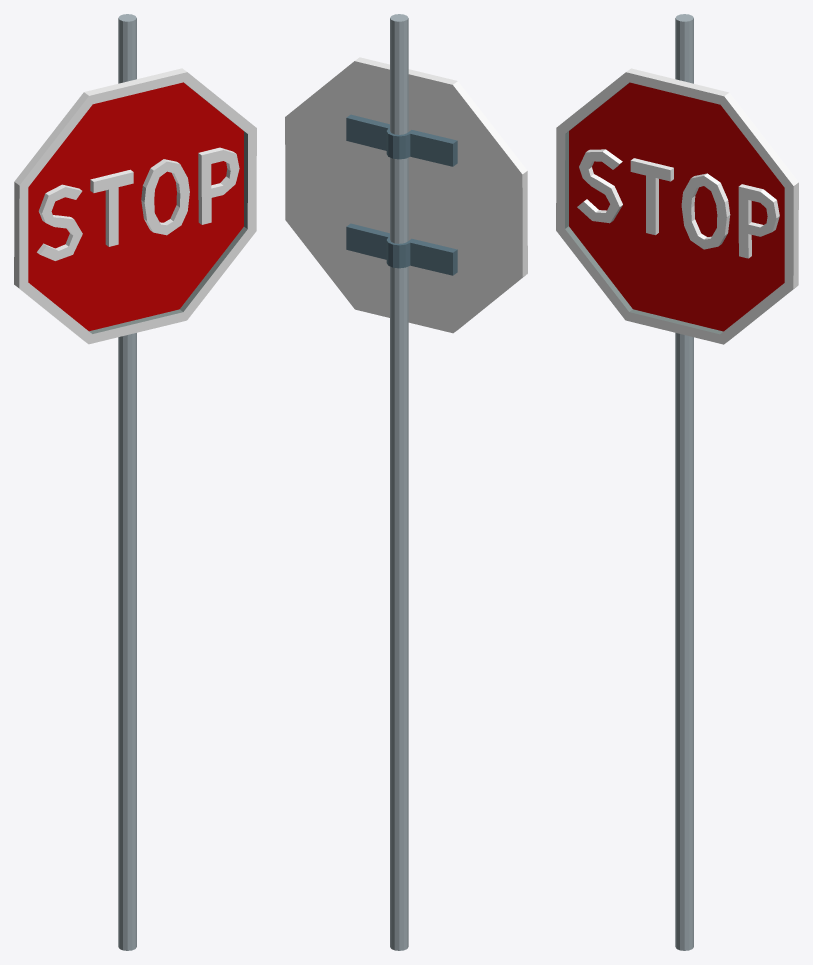
File: pilar_stop.fbx
3 views of the same model, side by side, from view 1: azimuth 30°, elevation 25°; view 2: azimuth 150°, elevation 25°; view 3: azimuth 330°, elevation 25° (orthographic).
Parts seen in each view (by area): view 1: stop, pilar; view 2: stop, pilar; view 3: stop, pilar.
Part boxes in pixels (bbox=[...]): stop: bbox=[14, 68, 256, 344]; pilar: bbox=[118, 14, 136, 950]; stop: bbox=[285, 57, 527, 333]; pilar: bbox=[346, 14, 457, 950]; stop: bbox=[556, 68, 798, 344]; pilar: bbox=[675, 14, 693, 950].
Size of the model in its own units: 85.98 by 321 by 10.34.
